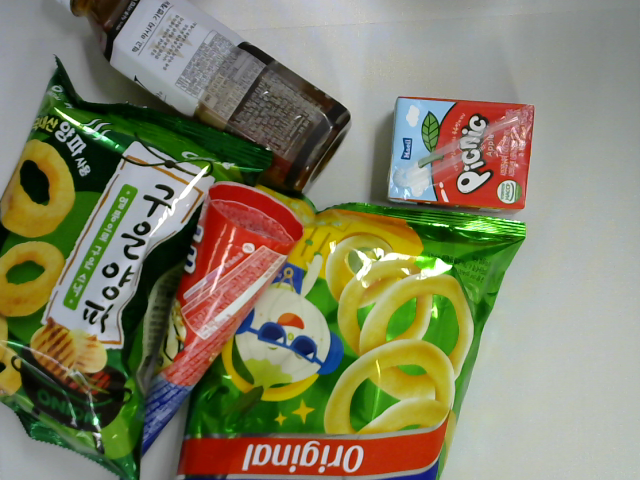Grilled_Onions: (1, 53, 275, 480)
Oninon_Ring: (170, 199, 526, 480)
Picnic_Apple: (387, 94, 538, 215)
Post-meal_recipe_W_tea_500ml: (53, 1, 353, 198)
World_Cone_Banila: (131, 177, 305, 460)
